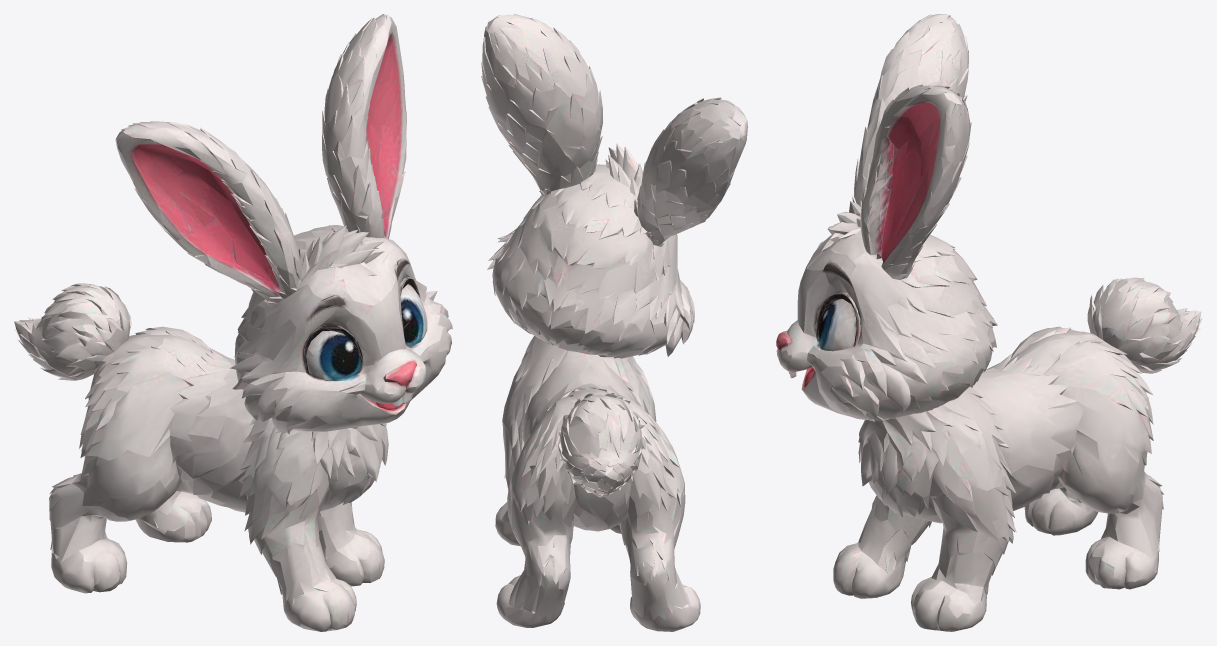
Rendered from bunny.glb.
3 renders of one model, left to right at view 1: azimuth 30°, elevation 25°; view 2: azimuth 150°, elevation 25°; view 3: azimuth 270°, elevation 25°, orthographic. The views are drawn at different scales.
Size of the model in its own units: 1.09 by 1.9 by 1.35.
Materials: 1 (1 with a texture image).
